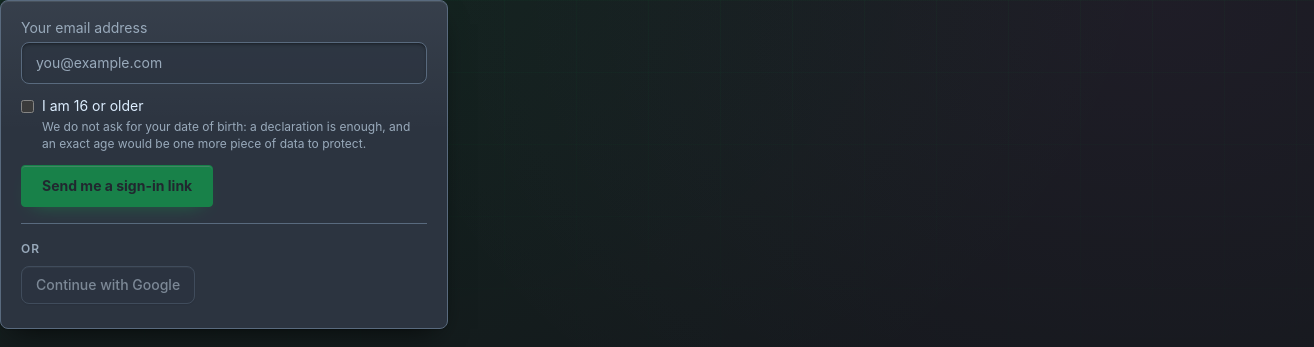
Test case: la connexion › 🔴 le bouton reste inactif tant que l age n est pas declare
Type "moi@exemple.fr" into the field labelled "Your email address".
click(224, 63); type("moi@exemple.fr")  # box [21, 42, 427, 84]
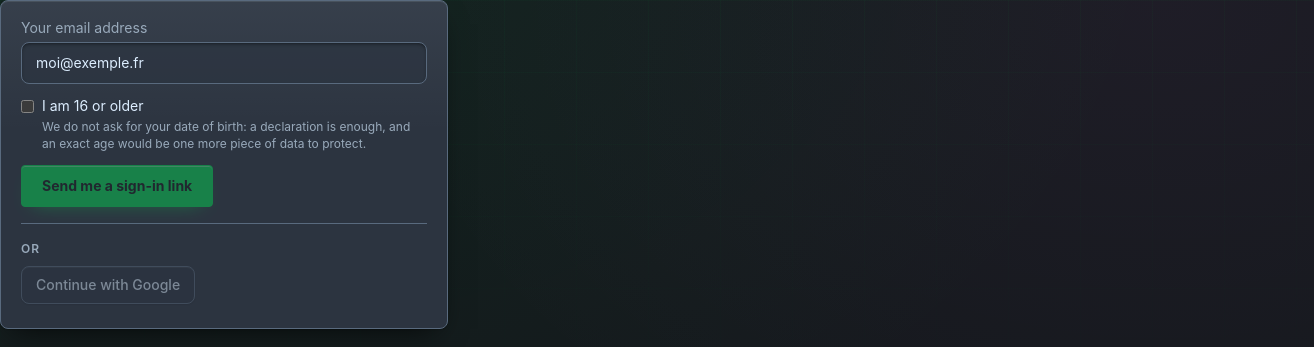
Expected: the button "Send me a sign-in link" is disabled, [21, 165, 213, 207]
Click the checkbox.
click(28, 106)  # box [21, 100, 34, 113]
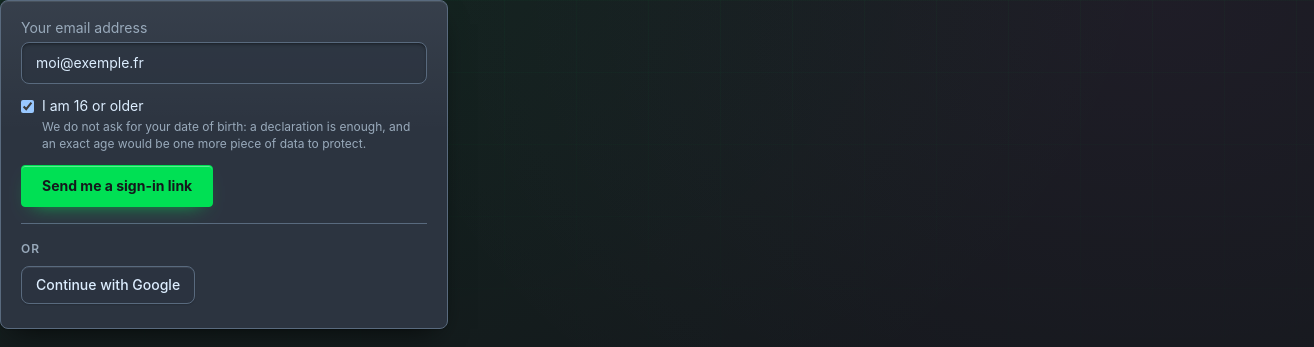
Now the button "Send me a sign-in link" is enabled, box [21, 165, 213, 207]
